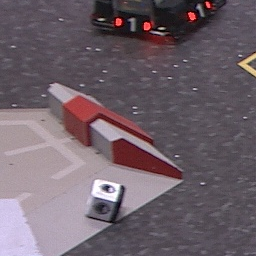Red: (113, 14, 151, 35), (188, 1, 213, 20)
Robot: (87, 1, 230, 39)
